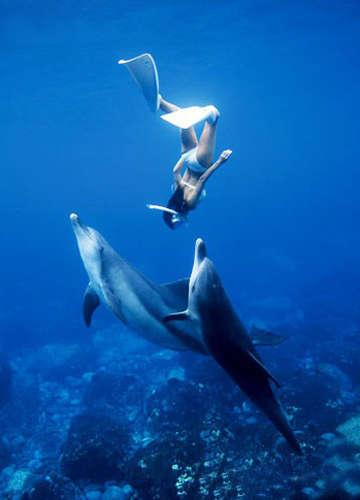dolphin: (64, 211, 292, 358), (159, 234, 307, 460)
person: (114, 48, 236, 235)
